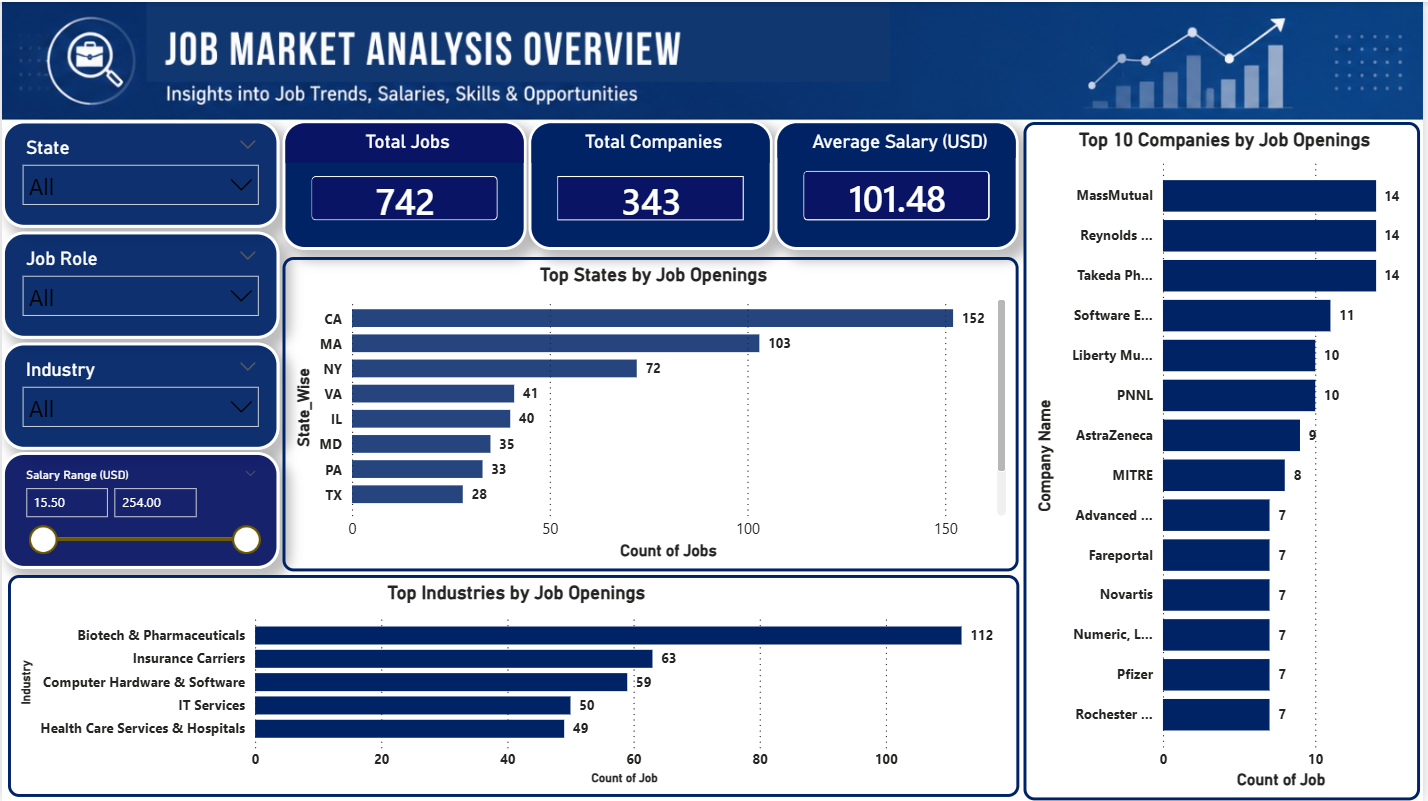

This screenshot's page, from the dashboard's own definition file:
{"tool":"powerbi","page":{"name":"DASHBOARD OVERVIEW","canvas":[1280,720],"ordinal":0},"visuals":[{"type":"slicer","fields":{"Values":["Job_Market_Analysis_Final.State_Wise"]},"box":[0,106.7,250,96.7],"z":0},{"type":"slicer","fields":{"Values":["Job_Market_Analysis_Final.Job_Category"]},"box":[0,206.7,250,96.7],"z":2},{"type":"slicer","fields":{"Values":["Job_Market_Analysis_Final.Industry"]},"box":[0,306.7,250,96.7],"z":3},{"type":"slicer","fields":{"Values":["Job_Market_Analysis_Final.Avg_Salary"]},"box":[0,405,250,105],"z":4},{"type":"cardVisual","title":"Total Jobs","fields":{"Data":["Job_Market_Analysis_Final.Total Jobs"]},"box":[253.3,106.7,220,116.7],"z":5},{"type":"cardVisual","title":"Total Companies","fields":{"Data":["Job_Market_Analysis_Final.Total Companies"]},"box":[475,106.7,220,116.7],"z":6},{"type":"cardVisual","title":"Average Salary (USD)","fields":{"Data":["Job_Market_Analysis_Final.Avg Salary"]},"box":[696.7,106.7,220,116.7],"z":7},{"type":"barChart","title":"Top States by Job Openings","fields":{"Category":["Job_Market_Analysis_Final.State_Wise"],"Y":["CountNonNull(Job_Market_Analysis_Final.Job_Category)"]},"box":[253.3,230,663.3,283.3],"z":8},{"type":"clusteredBarChart","title":"Top 10 Companies by Job Openings","fields":{"Category":["Job_Market_Analysis_Final.Company_Name"],"Y":["CountNonNull(Job_Market_Analysis_Final.Job_Category)"]},"box":[920,108.6,357.1,611.4],"z":9},{"type":"barChart","title":"Top Industries by Job Openings","fields":{"Category":["Job_Market_Analysis_Final.Industry"],"Y":["CountNonNull(Job_Market_Analysis_Final.Job_Category)"]},"box":[5,516.7,911,200],"z":10}]}

Visuals, with their boxes in screenshot pixels (x1, y1, x2, y2), scaled from the page's 1280x720 canvas onto the 1428x801 screenshot:
slicer - Job_Market_Analysis_Final.State_Wise: {"left": 0, "top": 119, "right": 279, "bottom": 226}
slicer - Job_Market_Analysis_Final.Job_Category: {"left": 0, "top": 230, "right": 279, "bottom": 338}
slicer - Job_Market_Analysis_Final.Industry: {"left": 0, "top": 341, "right": 279, "bottom": 449}
slicer - Job_Market_Analysis_Final.Avg_Salary: {"left": 0, "top": 451, "right": 279, "bottom": 567}
"Total Jobs" cardVisual: {"left": 283, "top": 119, "right": 528, "bottom": 249}
"Total Companies" cardVisual: {"left": 530, "top": 119, "right": 775, "bottom": 249}
"Average Salary (USD)" cardVisual: {"left": 777, "top": 119, "right": 1023, "bottom": 249}
"Top States by Job Openings" barChart: {"left": 283, "top": 256, "right": 1023, "bottom": 571}
"Top 10 Companies by Job Openings" clusteredBarChart: {"left": 1026, "top": 121, "right": 1425, "bottom": 800}
"Top Industries by Job Openings" barChart: {"left": 6, "top": 575, "right": 1022, "bottom": 797}
